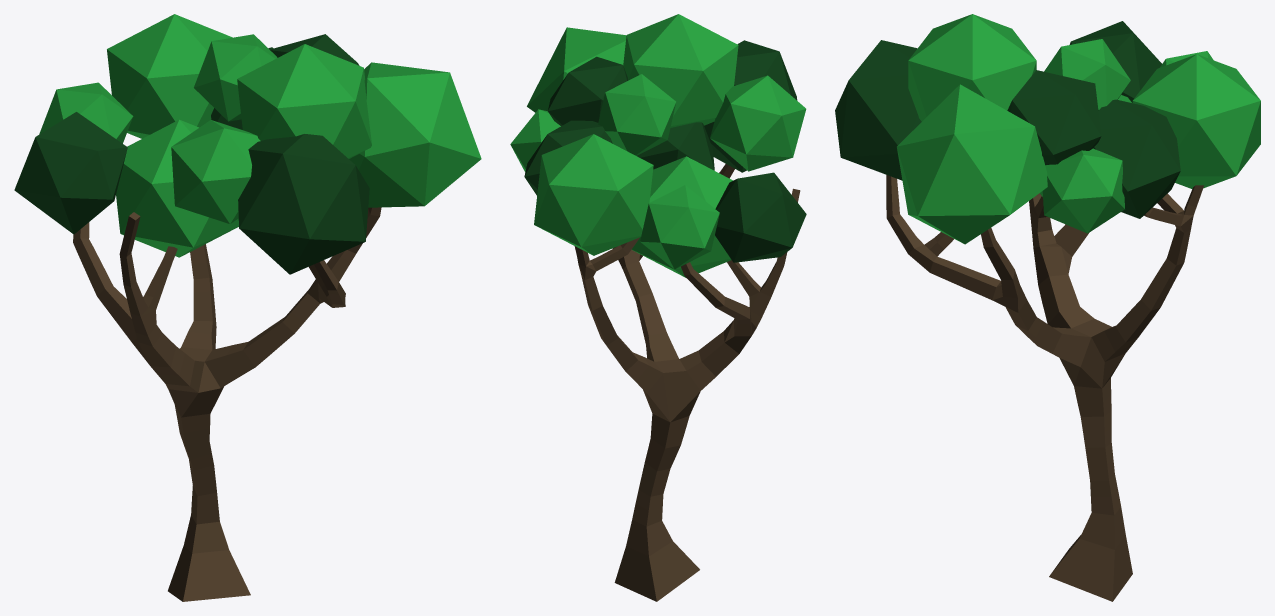
File: Tree.gltf
3 renders of one model, left to right at view 1: azimuth 30°, elevation 25°; view 2: azimuth 150°, elevation 25°; view 3: azimuth 270°, elevation 25°, orthographic. The views are drawn at different scales.
Visible parts, largest first — view 1: Plane, Icosphere.005, Icosphere.002, Icosphere.008, Icosphere.003, Icosphere.014, Icosphere.012, Icosphere.009, Icosphere.007, Icosphere.004, Icosphere.010; view 2: Plane, Icosphere.003, Icosphere.008, Icosphere.009, Icosphere.014, Icosphere.004, Icosphere.007, Icosphere.012, Icosphere.002, Icosphere.010, Icosphere.005, Icosphere.011 (+2 smaller); view 3: Plane, Icosphere.002, Icosphere.003, Icosphere.008, Icosphere.005, Icosphere.006, Icosphere.010, Icosphere.013, Icosphere.007, Icosphere.014.
Part boxes in pixels (x1,y1,x2,y2): Plane: (73, 207, 381, 601); Icosphere.005: (238, 134, 369, 274); Icosphere.002: (349, 62, 481, 207); Icosphere.008: (237, 44, 371, 158); Icosphere.003: (107, 14, 232, 138); Icosphere.014: (14, 112, 127, 234); Icosphere.012: (116, 119, 238, 257); Icosphere.009: (171, 120, 260, 223); Icosphere.007: (194, 34, 277, 121); Icosphere.004: (39, 82, 133, 143); Icosphere.010: (270, 34, 359, 65); Plane: (574, 164, 800, 601); Icosphere.003: (534, 134, 653, 255); Icosphere.008: (623, 14, 738, 127); Icosphere.009: (710, 75, 806, 171); Icosphere.014: (715, 172, 806, 262); Icosphere.004: (640, 185, 719, 269); Icosphere.007: (598, 74, 676, 155); Icosphere.012: (631, 156, 732, 277); Icosphere.002: (527, 27, 626, 112); Icosphere.010: (548, 56, 628, 125); Icosphere.005: (704, 40, 797, 172); Icosphere.011: (637, 122, 714, 170); Plane: (886, 175, 1203, 601); Icosphere.002: (897, 84, 1047, 244); Icosphere.003: (1132, 54, 1260, 188); Icosphere.008: (908, 14, 1036, 121); Icosphere.005: (835, 40, 921, 180); Icosphere.006: (1093, 99, 1180, 218); Icosphere.010: (1007, 70, 1101, 165); Icosphere.013: (1042, 148, 1124, 233); Icosphere.007: (1044, 39, 1130, 110); Icosphere.014: (1069, 21, 1161, 102).
Size of the model in its own units: 5.5 by 8.58 by 5.64.
